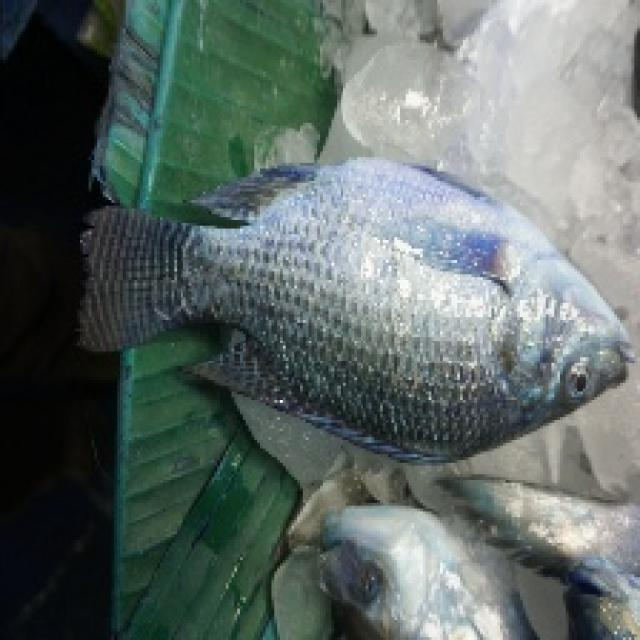Fresh: (86, 124, 617, 480)
